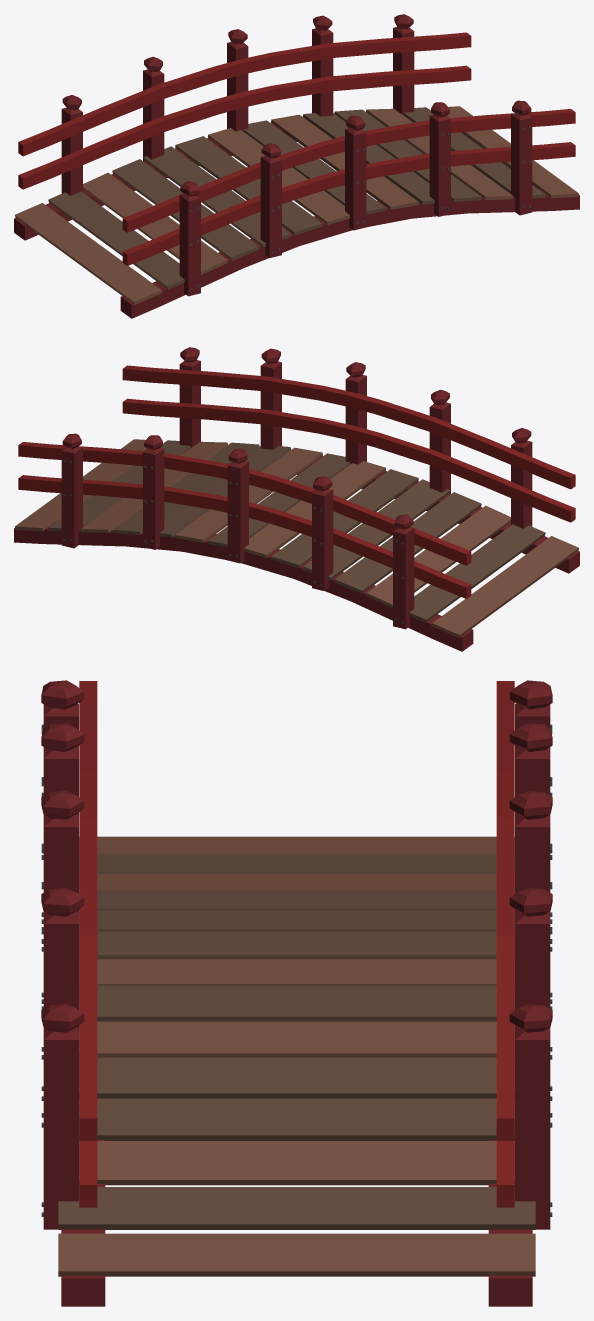
The model's file is Bridge_1_1 Asia.fbx.
3 renders of one model, top to bottom at view 1: azimuth 30°, elevation 25°; view 2: azimuth 150°, elevation 25°; view 3: azimuth 270°, elevation 25°, orthographic. The views are drawn at different scales.
Parts seen in each view (by area): view 1: Bridge_1_1; view 2: Bridge_1_1; view 3: Bridge_1_1.
Part boxes in pixels (x1=…): Bridge_1_1: x1=14, y1=14, x2=579, y2=318; Bridge_1_1: x1=14, y1=347, x2=579, y2=651; Bridge_1_1: x1=41, y1=680, x2=552, y2=1306.
Size of the model in its own units: 4.1 by 1.29 by 2.02.
